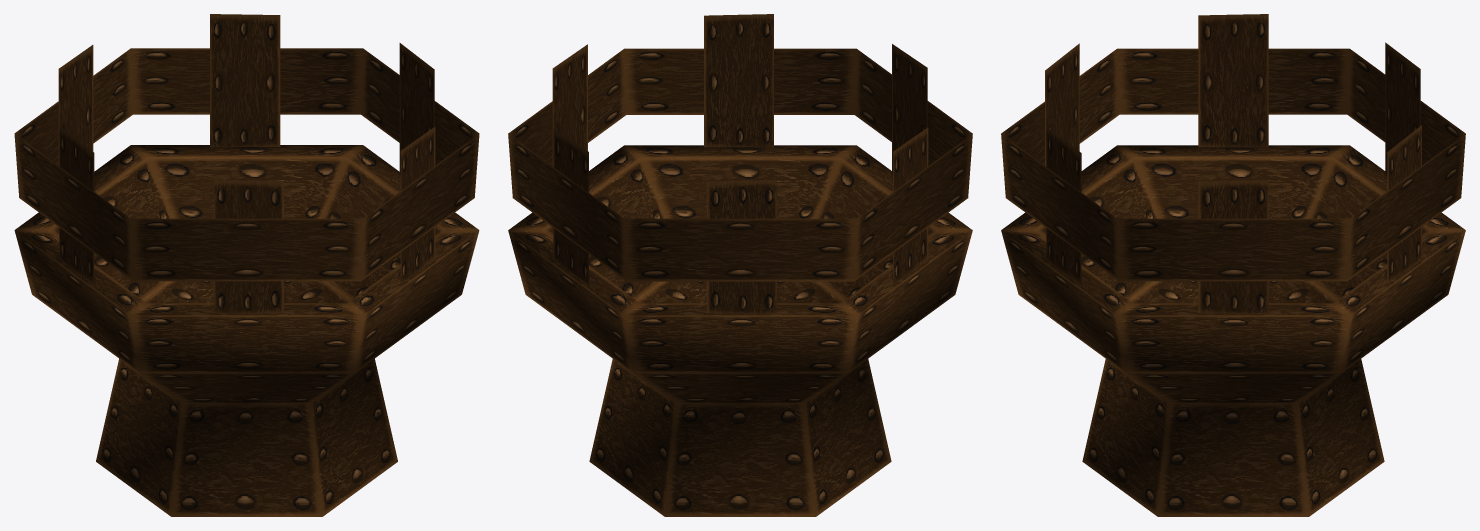
The model's file is Braciere1 (1).glb.
3 views of the same model, side by side, from view 1: azimuth 30°, elevation 25°; view 2: azimuth 150°, elevation 25°; view 3: azimuth 270°, elevation 25° (orthographic).
Visible parts, largest first — view 1: Braciere_01; view 2: Braciere_01; view 3: Braciere_01.
Part boxes in pixels (bbox=[...]): Braciere_01: bbox=[14, 14, 479, 516]; Braciere_01: bbox=[508, 14, 972, 516]; Braciere_01: bbox=[1001, 14, 1465, 516].
Size of the model in its own units: 2.66 by 2.66 by 3.08.
1 material, 1 textured.
